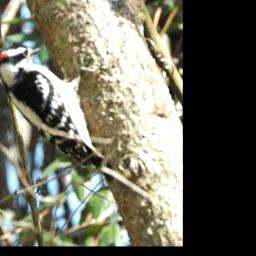Woodpecker: (0, 44, 105, 169)
